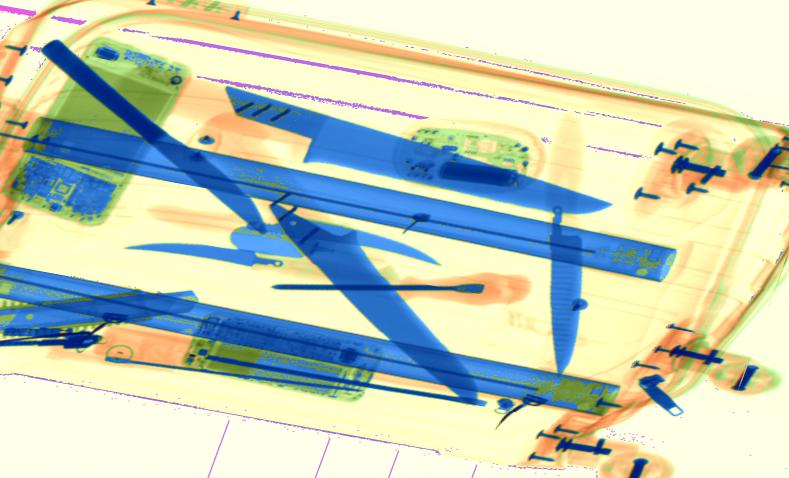Knife: (218, 85, 611, 217), (40, 39, 265, 232), (265, 202, 480, 403), (239, 217, 442, 267), (545, 205, 584, 376), (123, 241, 300, 277), (229, 224, 302, 259)
